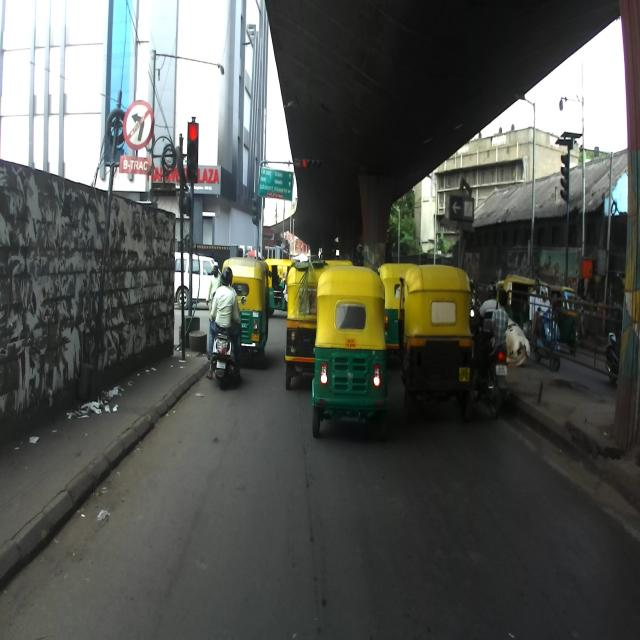autorickshaw: (311, 268, 386, 438), (398, 264, 472, 419), (283, 259, 329, 389), (221, 257, 272, 360), (376, 263, 424, 356), (545, 285, 578, 356), (263, 258, 299, 314), (318, 259, 353, 274)
bus: (320, 251, 334, 263), (304, 255, 319, 263)
motorcycle_Hero: (470, 309, 510, 419)
scooter: (207, 292, 247, 387), (531, 305, 560, 371), (604, 332, 623, 383)
